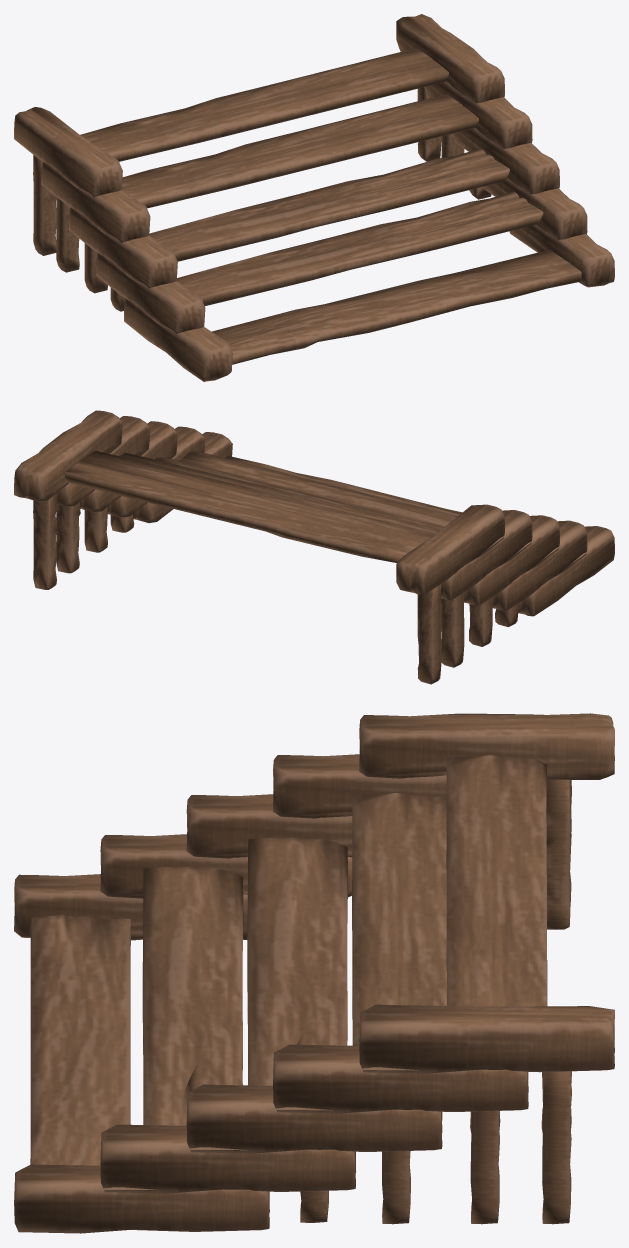
The model's file is SM_stairs_straight.fbx.
3 renders of one model, top to bottom at view 1: azimuth 30°, elevation 25°; view 2: azimuth 150°, elevation 25°; view 3: azimuth 270°, elevation 25°, orthographic. The views are drawn at different scales.
Visible parts, largest first — view 1: stairs_straight; view 2: stairs_straight; view 3: stairs_straight.
Part boxes in pixels (left/top/right/bottom): stairs_straight: left=14, top=14, right=614, bottom=381; stairs_straight: left=14, top=410, right=614, bottom=684; stairs_straight: left=14, top=713, right=614, bottom=1233.
Size of the model in its own units: 434 by 134 by 351.
